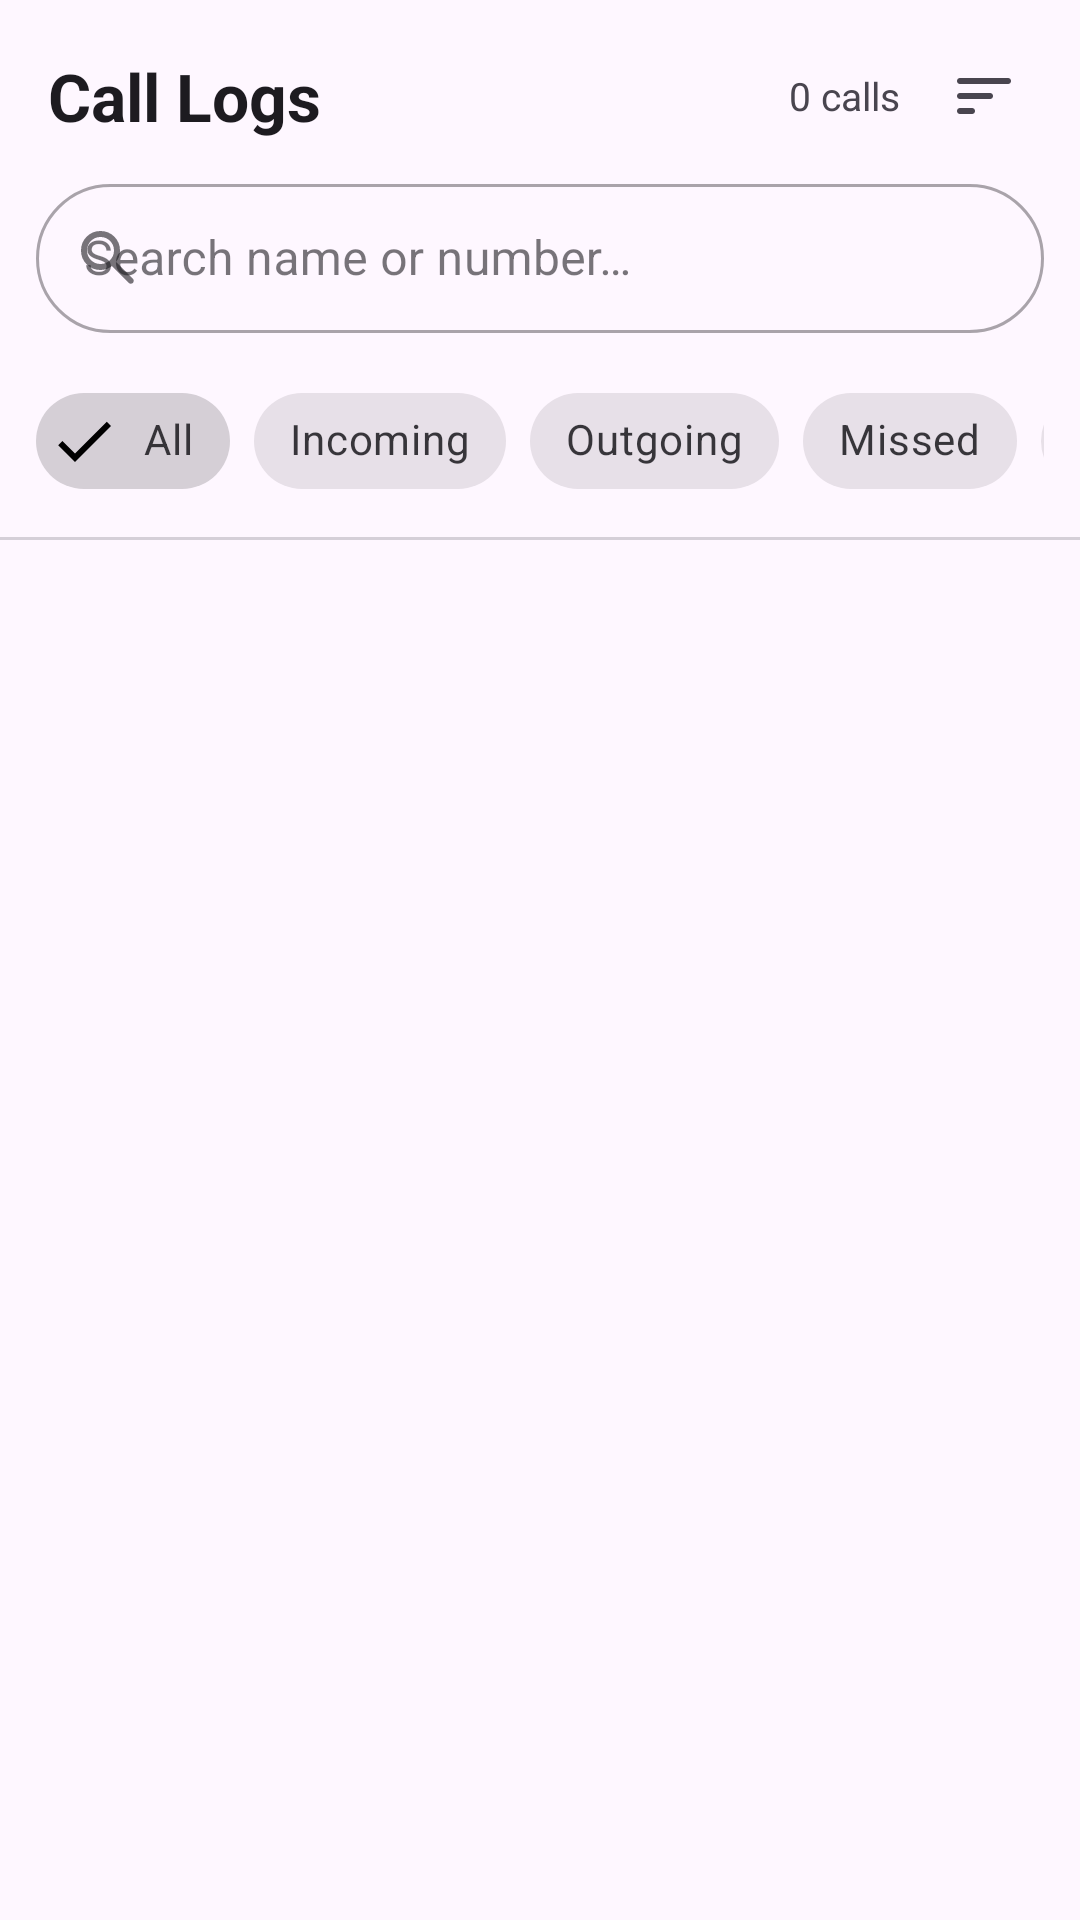

Icons on this 1080w x 1920h Android screen, each with its box as [x1, y1, x2, y2]:
Sort: [957, 78, 1011, 114]
